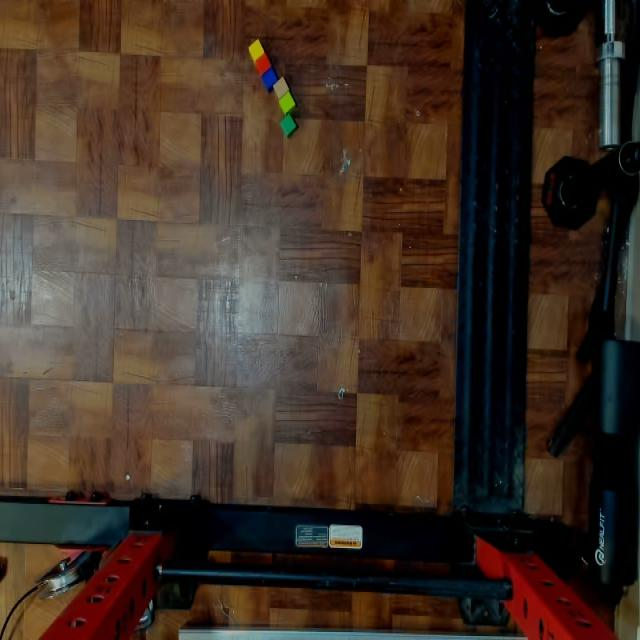block: (280, 115, 297, 136), (278, 91, 294, 113), (261, 68, 276, 91), (254, 55, 270, 75), (249, 39, 263, 61), (274, 77, 288, 99)
